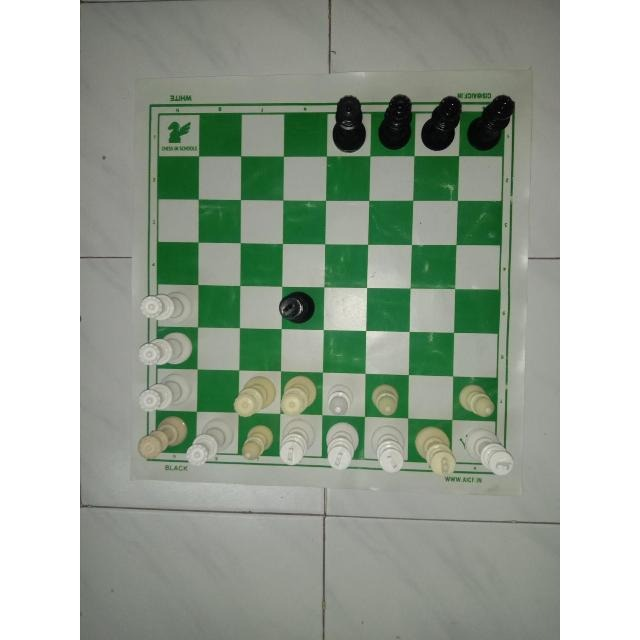black-king: (275, 287, 319, 327)
black-queen: (463, 91, 516, 152), (328, 92, 370, 158), (420, 94, 464, 157), (375, 92, 416, 156)
white-bishop: (455, 381, 499, 420), (238, 420, 278, 462), (324, 378, 356, 418), (368, 382, 402, 418)
white-king: (411, 424, 459, 480), (459, 428, 514, 476), (321, 422, 362, 474), (370, 422, 406, 474), (276, 418, 316, 464)
white-queen: (133, 414, 191, 459), (187, 417, 237, 468), (138, 373, 194, 415), (139, 330, 197, 370), (233, 370, 281, 416), (138, 289, 196, 325), (281, 371, 321, 413)
